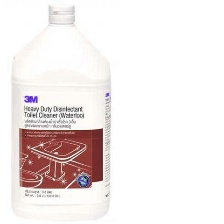cleaning_solution: (7, 1, 114, 224)
